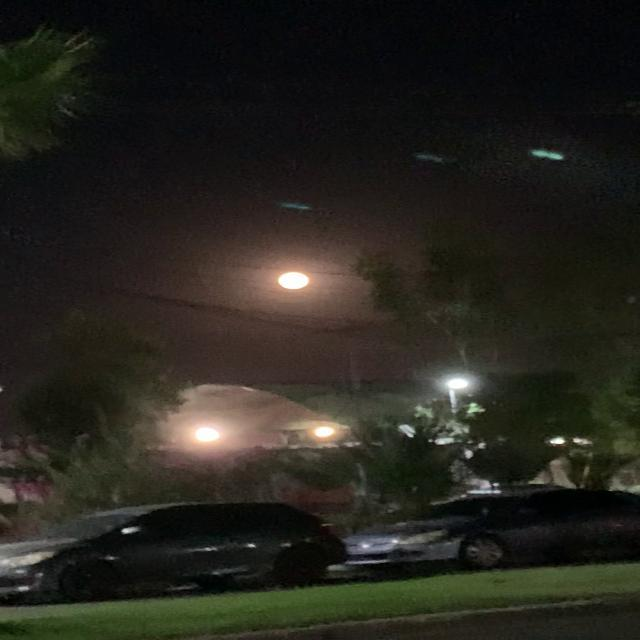moon: (270, 259, 327, 293)
